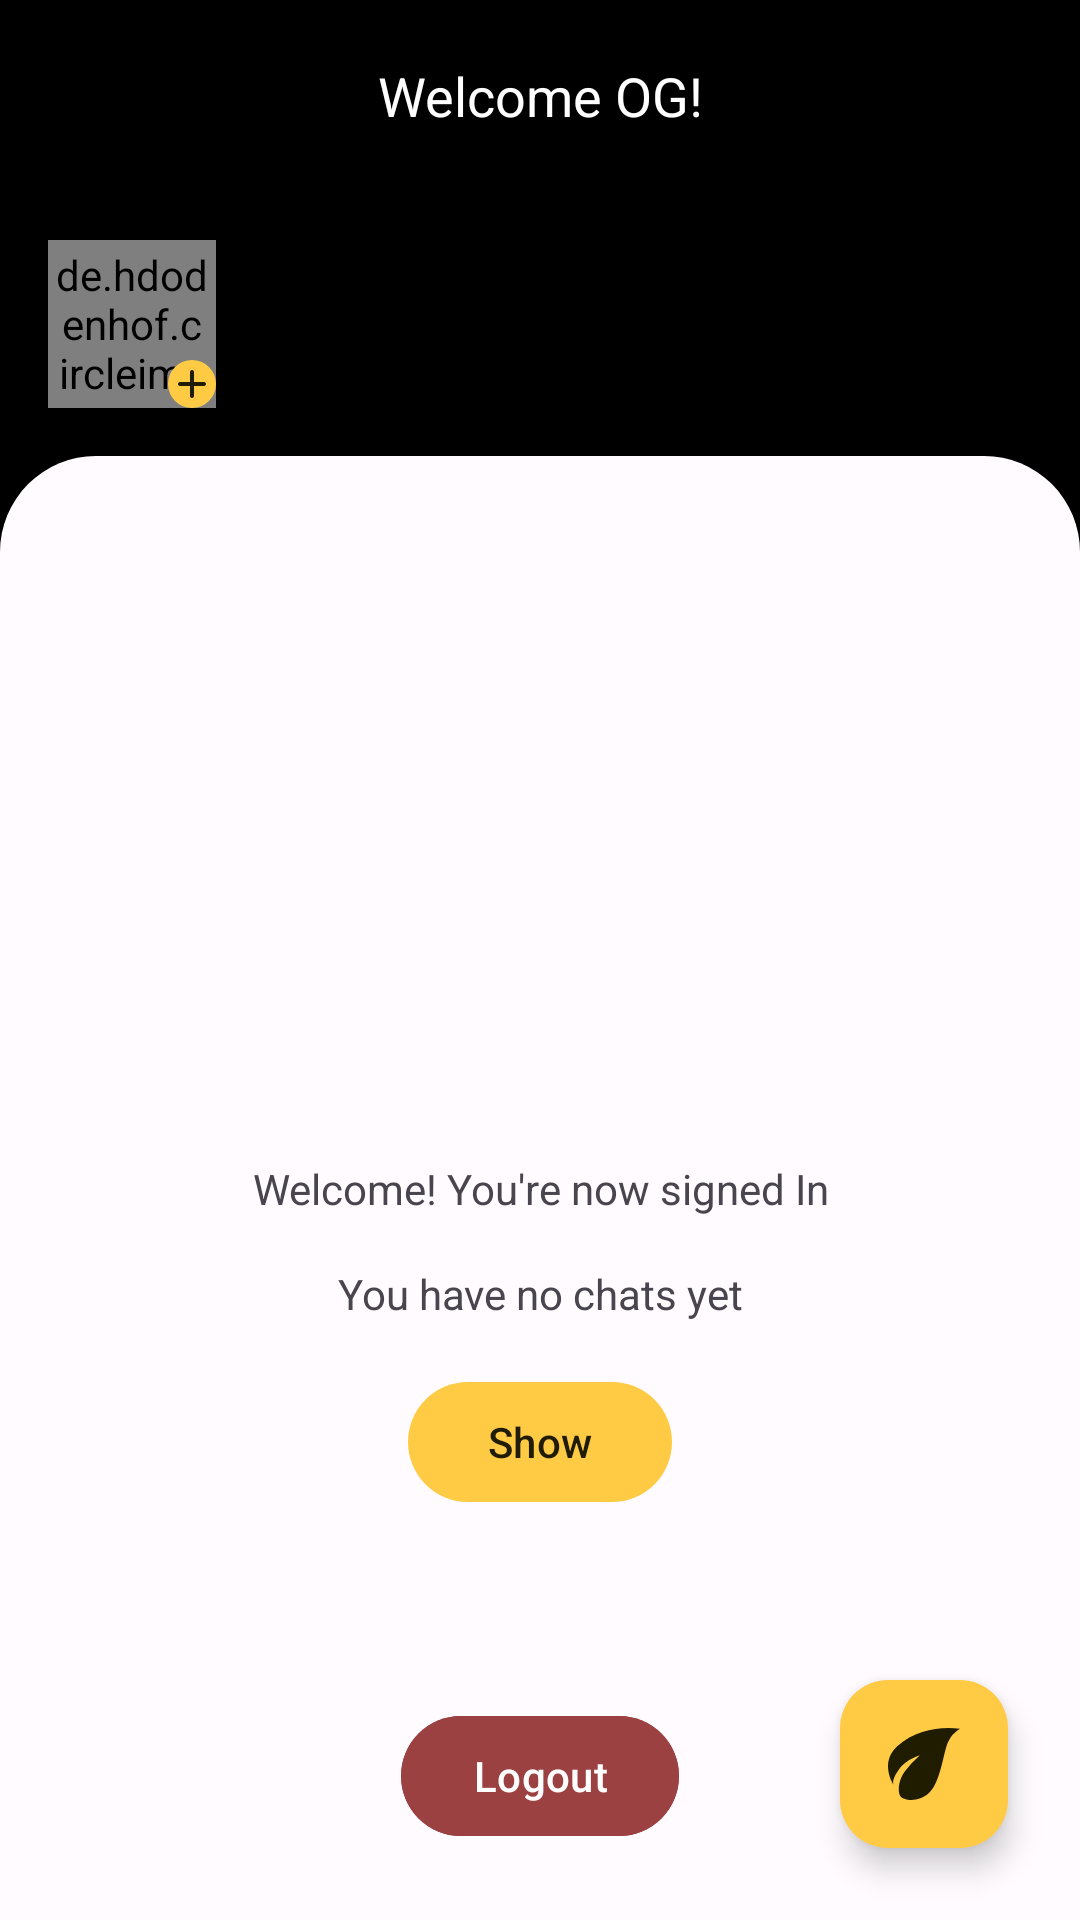

Point at icon controls on the screen. Image size 1080px×1920px, points as point (x, y).
add: point (192, 384)
leaf: point (924, 1764)
